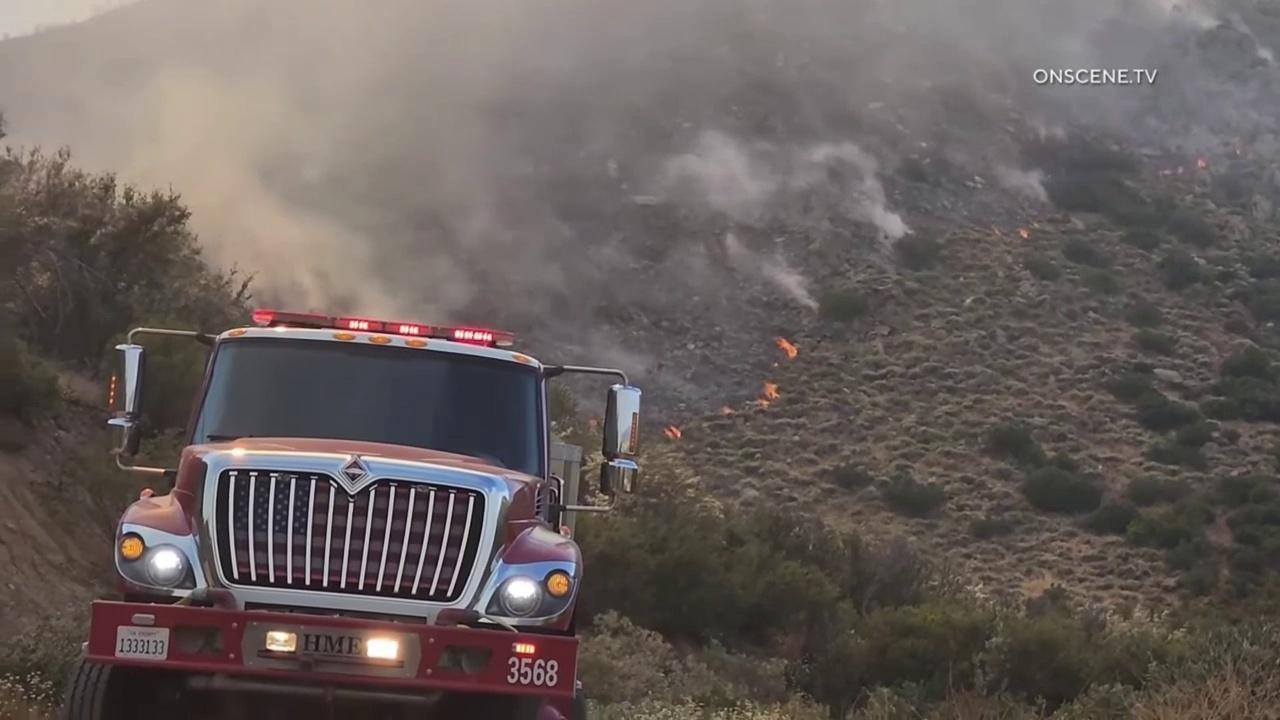fire: (743, 381, 782, 409), (773, 335, 801, 362), (662, 423, 683, 442), (1157, 166, 1186, 177), (718, 403, 737, 416), (586, 417, 600, 433), (1194, 157, 1210, 170), (1017, 227, 1032, 239), (990, 224, 1003, 235)
smoke: (0, 0, 1280, 441)
